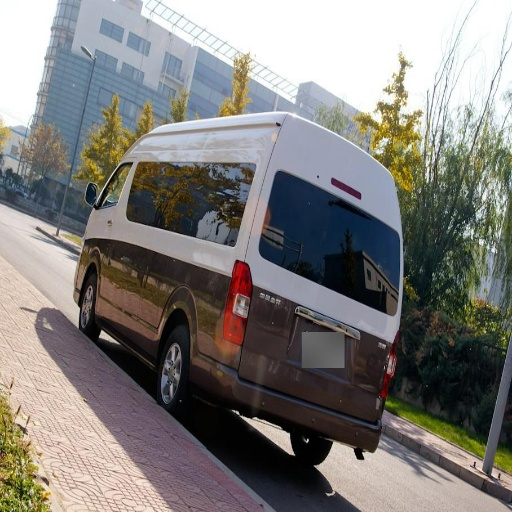back_left_light: (226, 262, 251, 341)
trunk: (219, 261, 389, 413), (145, 239, 217, 329)
